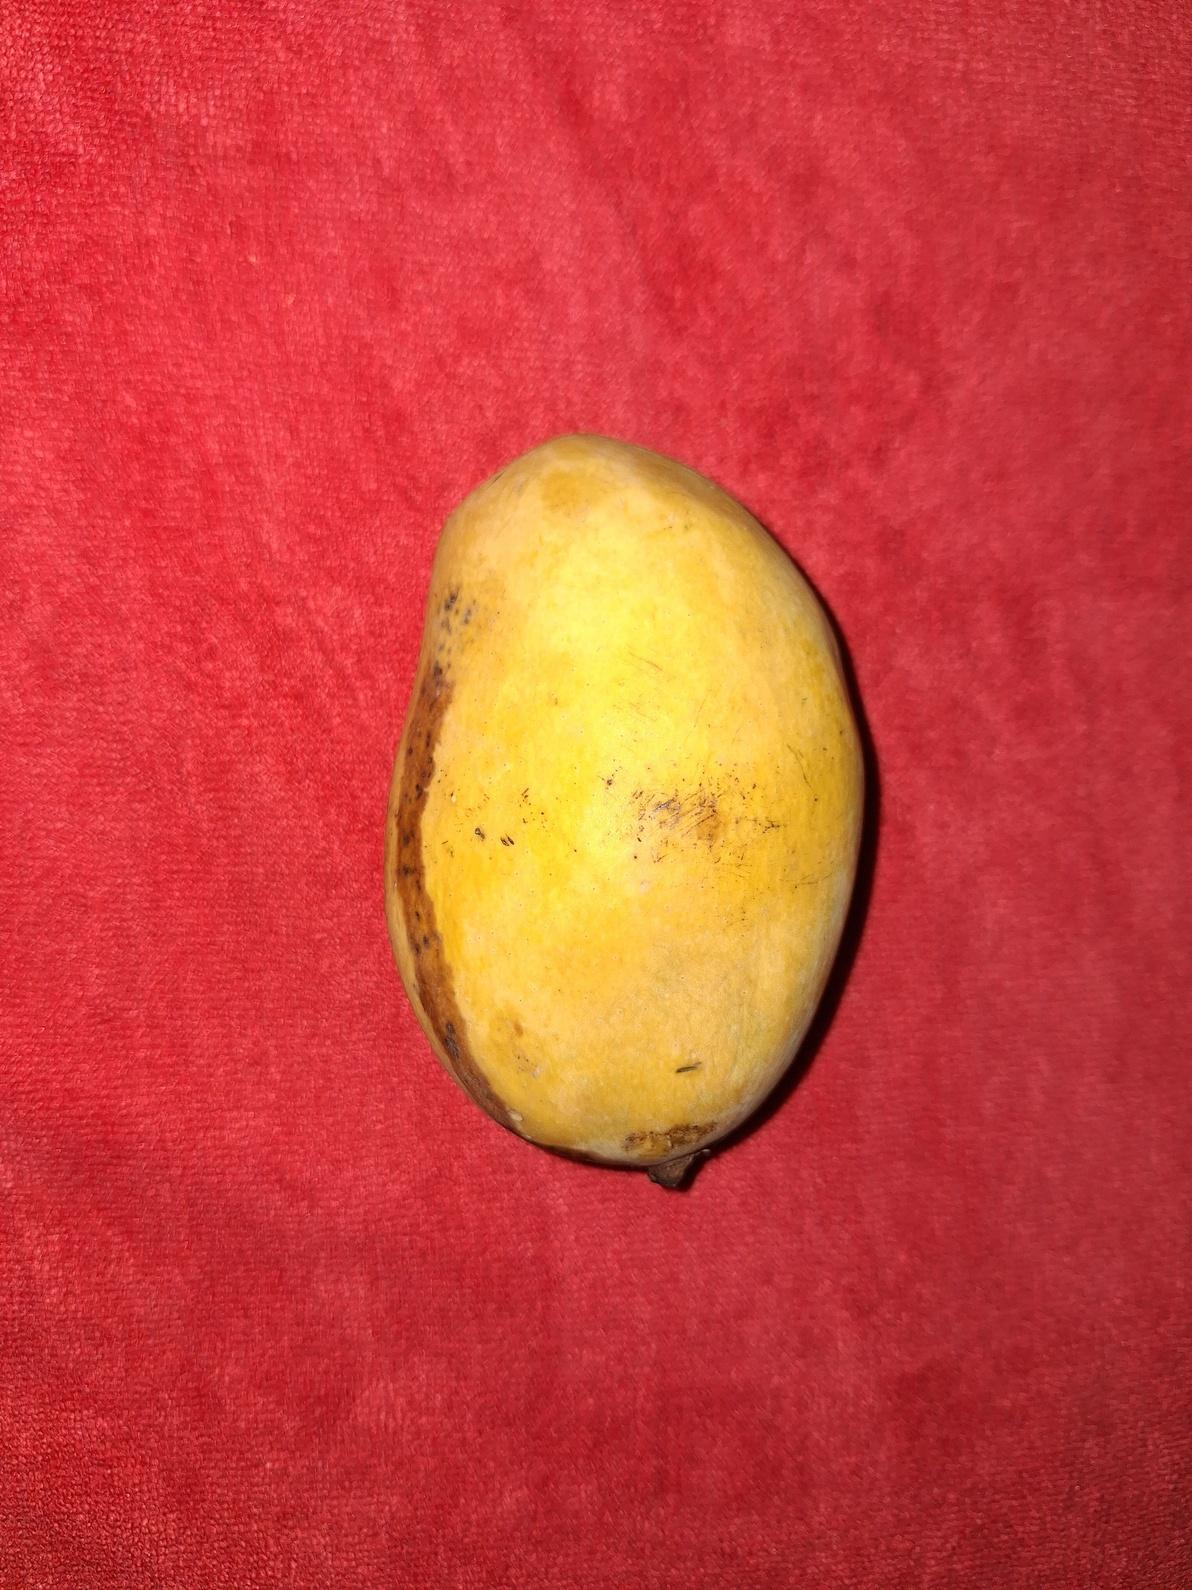mango: (382, 429, 865, 1188)
